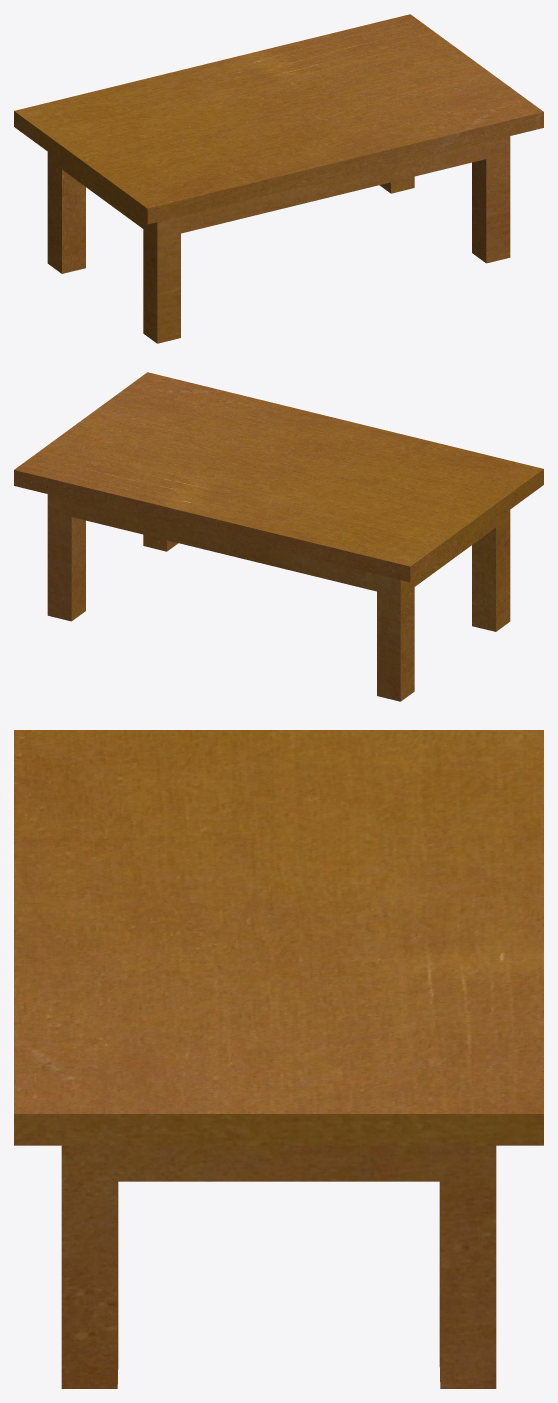
Rendered from tableLong.fbx.
The picture shows the model from 3 angles, top to bottom: view 1: azimuth 30°, elevation 25°; view 2: azimuth 150°, elevation 25°; view 3: azimuth 270°, elevation 25°; orthographic projection. The views are drawn at different scales.
Parts seen in each view (by area): view 1: tableLong; view 2: tableLong; view 3: tableLong.
Part boxes in pixels (<box>): tableLong: <box>14,14,543,343</box>; tableLong: <box>14,372,543,701</box>; tableLong: <box>14,730,543,1388</box>.
Bounding box in the file's own units: 9.18 × 3.3 × 5.35.
